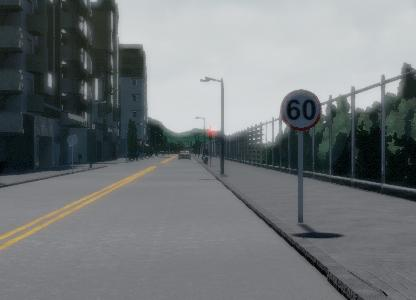Speed_60: (278, 88, 323, 131)
